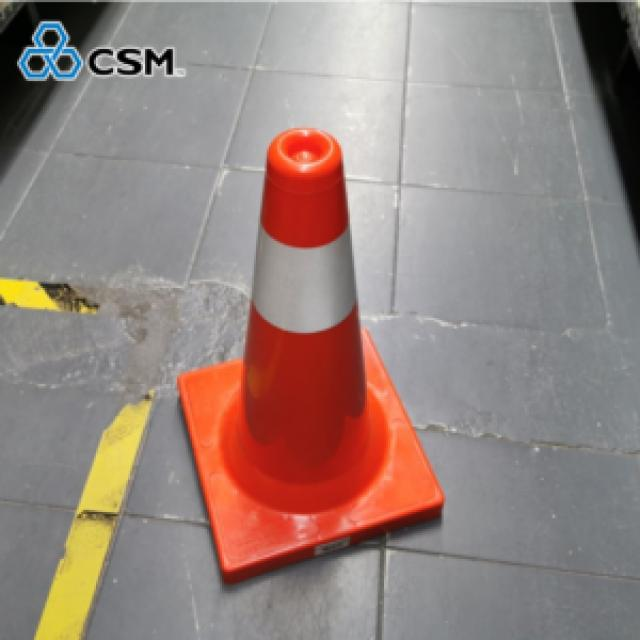Traffic Cone: (96, 78, 542, 601)
